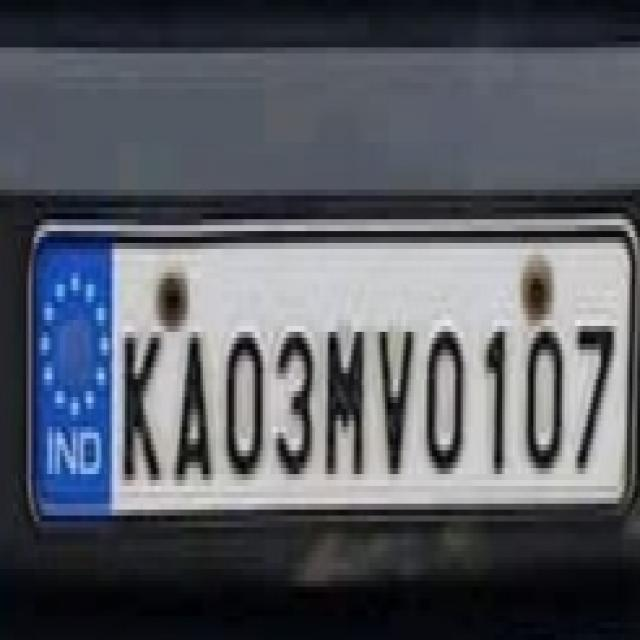0: (518, 304, 566, 478), (224, 311, 266, 488), (424, 308, 464, 471)
1: (479, 308, 517, 487)
3: (268, 308, 316, 494)
7: (573, 295, 622, 497)
A: (168, 308, 218, 500)
K: (119, 314, 164, 497)
M: (320, 320, 368, 488)
V: (372, 303, 421, 487)
